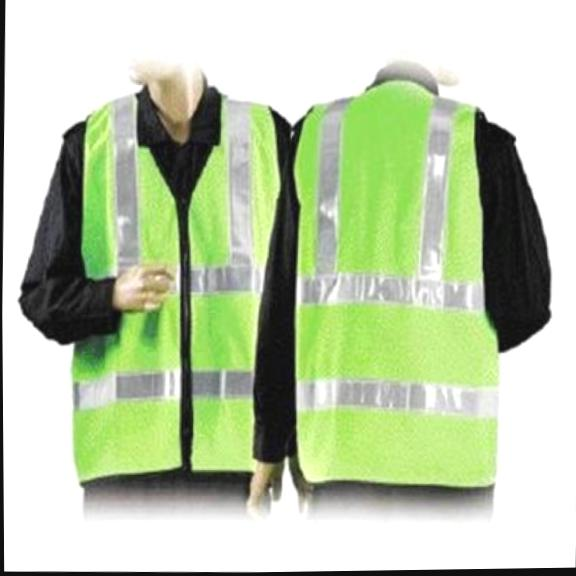safety_vest: (286, 74, 508, 495), (69, 86, 287, 479)
